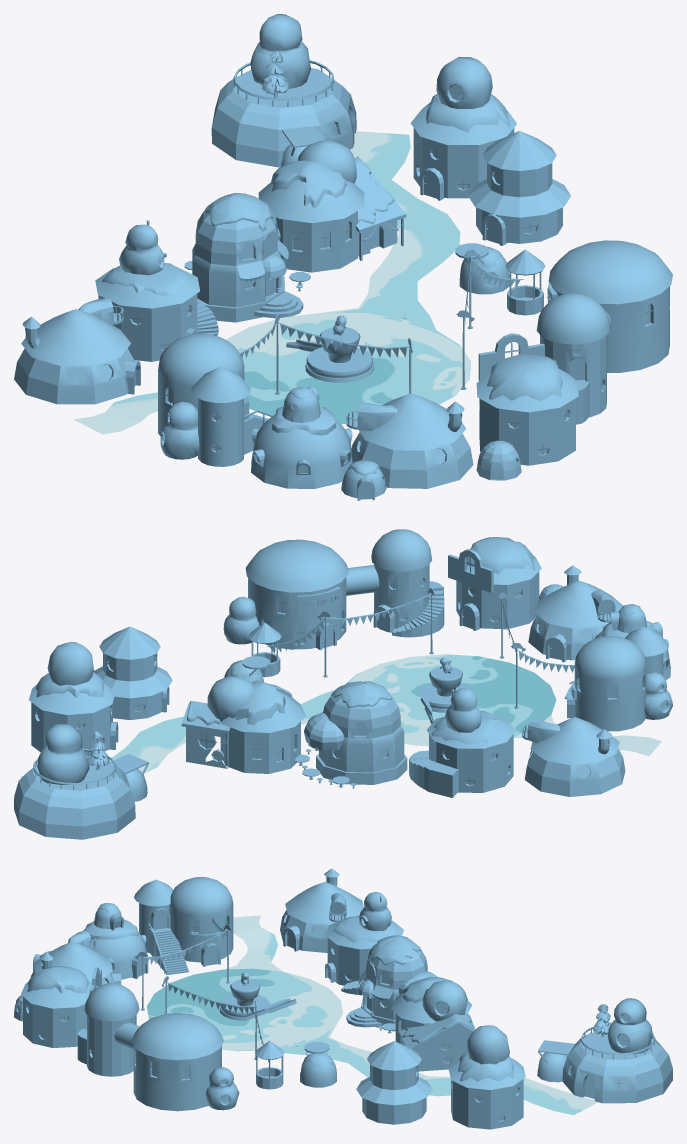
Rendered from Neighborhood_IceBreakerAlleyLocked.fbx.
3 renders of one model, top to bottom at view 1: azimuth 30°, elevation 25°; view 2: azimuth 150°, elevation 25°; view 3: azimuth 270°, elevation 25°, orthographic. The views are drawn at different scales.
Visible parts, largest first — view 1: Neighborhood_IceBreakerAlleyLocked_pasted__IceBreakerAlleyV3, Object_Road; view 2: Neighborhood_IceBreakerAlleyLocked_pasted__IceBreakerAlleyV3, Object_Road; view 3: Neighborhood_IceBreakerAlleyLocked_pasted__IceBreakerAlleyV3, Object_Road.
Part boxes in pixels (left/top/right/bottom): Neighborhood_IceBreakerAlleyLocked_pasted__IceBreakerAlleyV3: left=14, top=14, right=672, bottom=500; Object_Road: left=73, top=131, right=471, bottom=434; Neighborhood_IceBreakerAlleyLocked_pasted__IceBreakerAlleyV3: left=14, top=529, right=672, bottom=839; Object_Road: left=21, top=654, right=661, bottom=777; Neighborhood_IceBreakerAlleyLocked_pasted__IceBreakerAlleyV3: left=14, top=868, right=672, bottom=1129; Object_Road: left=146, top=915, right=597, bottom=1115.
Size of the model in its own units: 4203 by 845 by 5431.
